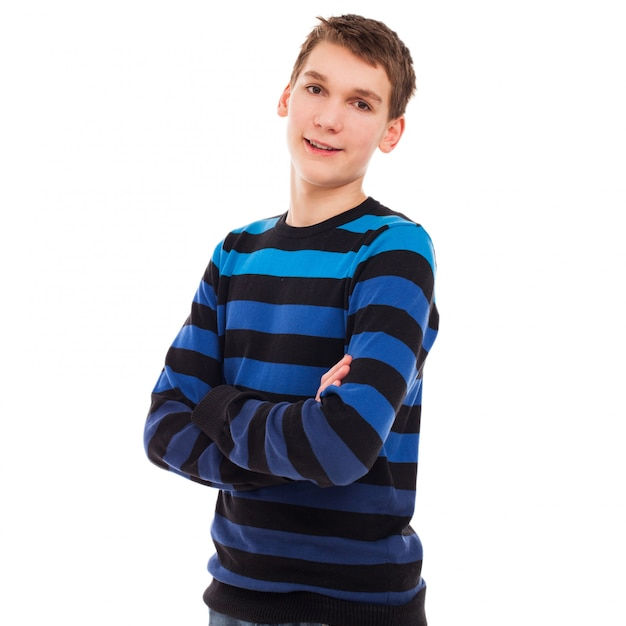teen: (249, 10, 446, 212)
